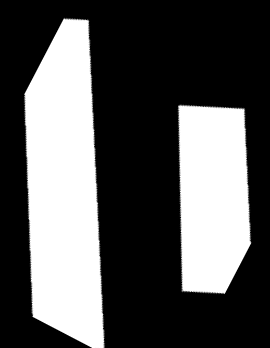parkingspot: (24, 18, 104, 348), (178, 105, 251, 294)
